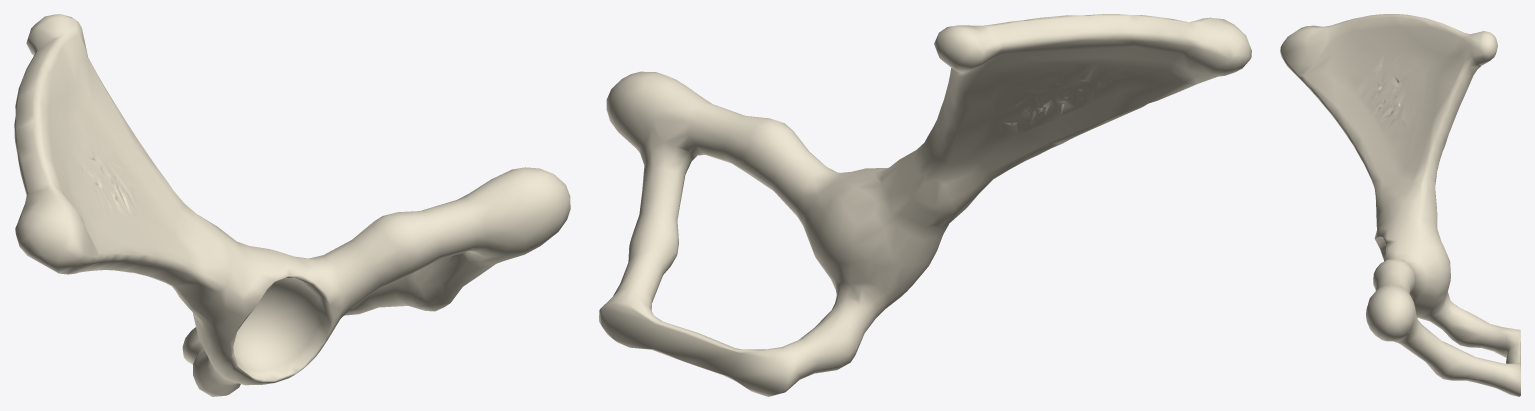
Rendered from hip_l.glb.
3 renders of one model, left to right at view 1: azimuth 30°, elevation 25°; view 2: azimuth 150°, elevation 25°; view 3: azimuth 270°, elevation 25°, orthographic. The views are drawn at different scales.
Parts seen in each view (by area): view 1: geometry_0; view 2: geometry_0; view 3: geometry_0.
Part boxes in pixels (bbox=[...]): geometry_0: bbox=[14, 14, 570, 396]; geometry_0: bbox=[599, 14, 1251, 396]; geometry_0: bbox=[1280, 14, 1520, 396].
Bounding box in the file's own units: 1.1 × 0.7085 × 0.5738.
